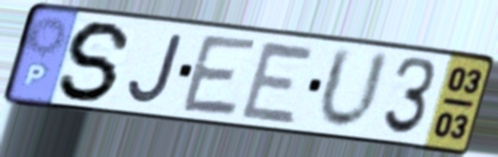3: (381, 56, 439, 139)
E: (177, 32, 262, 120), (236, 37, 319, 127)
J: (124, 30, 186, 106)
S: (56, 18, 136, 104)
U: (313, 44, 394, 134)
